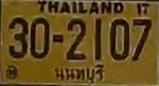0: (110, 19, 130, 60), (31, 17, 50, 58)
1: (94, 18, 101, 60)
2: (66, 18, 85, 59)
3: (8, 17, 28, 57)
7: (132, 18, 151, 60)
NBI: (50, 62, 106, 85)
